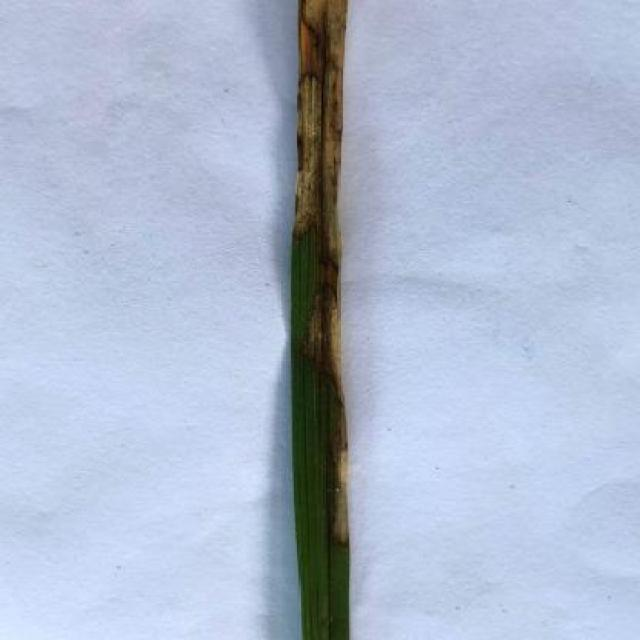Brown_Spot: (284, 0, 354, 640)
